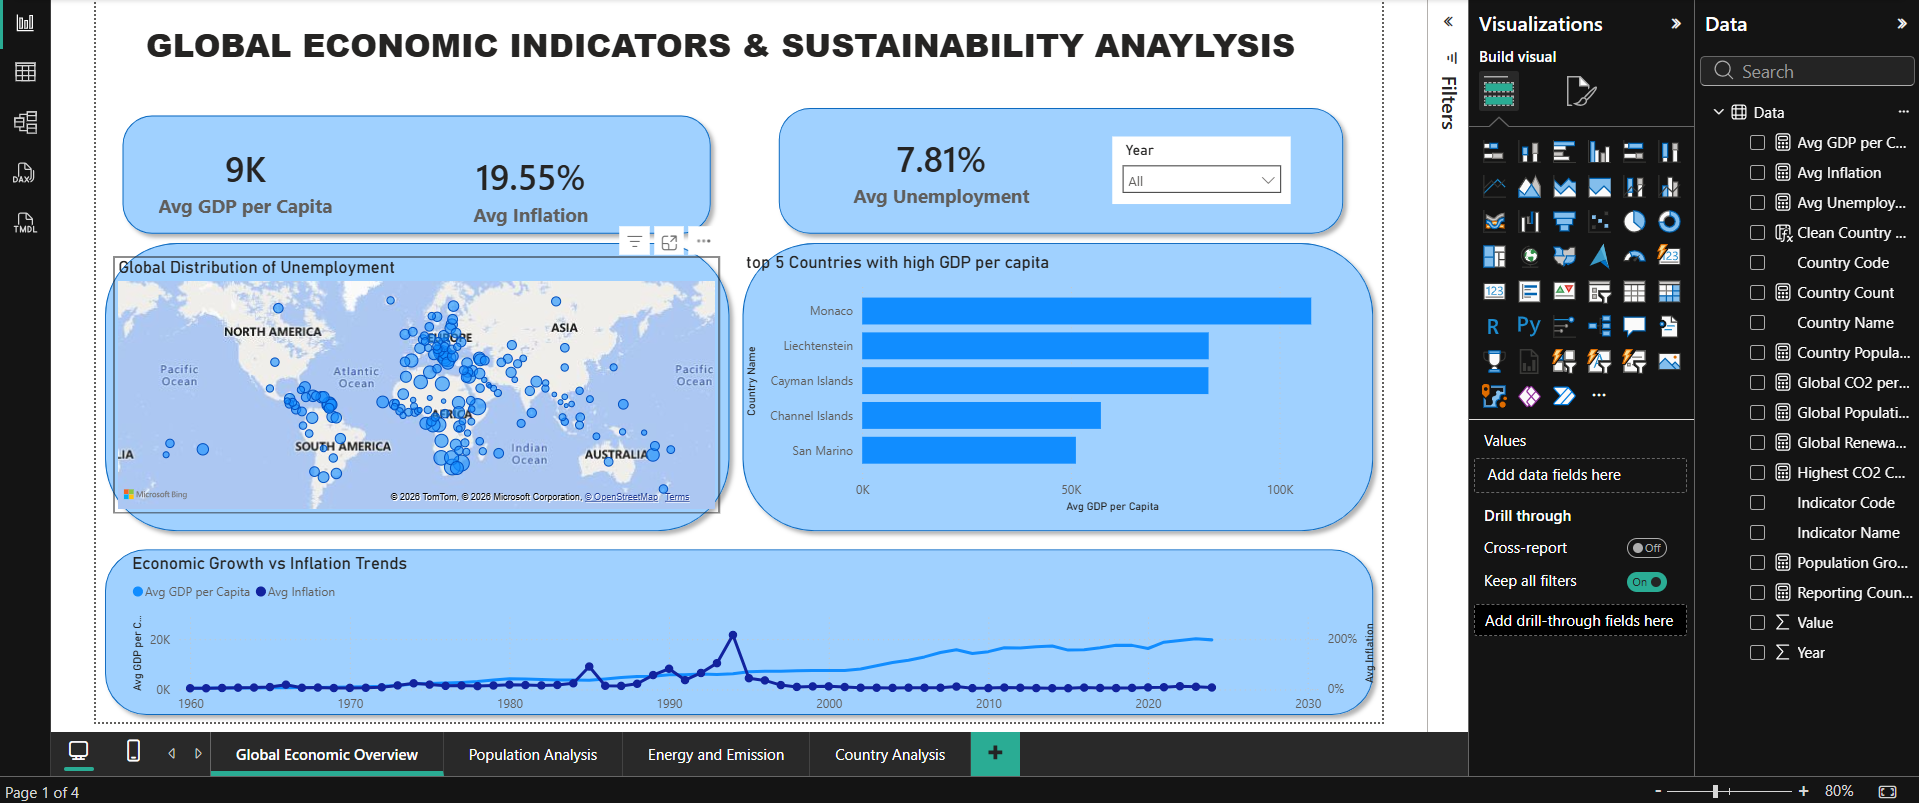

What the dashboard file says about the page in this screenshot:
{"tool":"powerbi","page":{"name":"Global Economic Overview","canvas":[1280,720],"ordinal":0},"visuals":[{"type":"group","id":"g1","title":"BackGround","box":[0,99.3,1280,621.5],"z":0},{"type":"shape","box":[17.4,106.8,603.3,135.6],"z":0,"group":"g1"},{"type":"shape","box":[670.5,99.3,579.7,143.1],"z":1000,"group":"g1"},{"type":"cardVisual","fields":{"Data":["Data.Avg GDP per Capita"]},"box":[31.1,114.4,235.1,133.1],"z":1000},{"type":"cardVisual","fields":{"Data":["Data.Avg Unemployment"]},"box":[722.7,104.5,237.6,133.1],"z":2000},{"type":"shape","box":[0,234,639.4,304.8],"z":2000,"group":"g1"},{"type":"cardVisual","fields":{"Data":["Data.Avg Inflation"]},"box":[293.6,123.2,278.6,133.1],"z":3000},{"type":"shape","box":[634.4,234,645.6,304.8],"z":3000,"group":"g1"},{"type":"slicer","fields":{"Values":["Data.Year"]},"box":[1011.3,136.8,177.9,67.2],"z":4000},{"type":"shape","box":[0,538,1280,182.9],"z":4000,"group":"g1"},{"type":"map","title":"Global Distribution of Unemployment","fields":{"Category":["Data.Country Name"],"Size":["Data.Avg Unemployment"]},"box":[17.4,256.3,603.3,256.3],"z":5000},{"type":"lineChart","title":"Economic Growth vs Inflation Trends","fields":{"Category":["Data.Year"],"Y":["Data.Avg GDP per Capita"],"Y2":["Data.Avg Inflation"]},"box":[31.1,551.1,1247.7,169.2],"z":6000},{"type":"clusteredBarChart","title":"top 5 Countries with high GDP per capita","fields":{"Category":["Data.Country Name"],"Y":["Data.Avg GDP per Capita"]},"box":[641.9,251.3,638.2,265],"z":7000},{"type":"textbox","box":[44.8,17.4,1234,82.1],"z":8000}]}

Visuals, with their boxes on the page's 1280x720 design canvas (x1, y1, x2, y2). These are canvas units, not pixel positions in the 1919x803 screenshot, which may show the page scaled, cropped or inside an application window:
"BackGround" group: locate(0, 99, 1280, 721)
shape: locate(17, 107, 621, 242)
shape: locate(670, 99, 1250, 242)
cardVisual - Data.Avg GDP per Capita: locate(31, 114, 266, 248)
cardVisual - Data.Avg Unemployment: locate(723, 104, 960, 238)
shape: locate(0, 234, 639, 539)
cardVisual - Data.Avg Inflation: locate(294, 123, 572, 256)
shape: locate(634, 234, 1280, 539)
slicer - Data.Year: locate(1011, 137, 1189, 204)
shape: locate(0, 538, 1280, 721)
"Global Distribution of Unemployment" map: locate(17, 256, 621, 513)
"Economic Growth vs Inflation Trends" lineChart: locate(31, 551, 1279, 720)
"top 5 Countries with high GDP per capita" clusteredBarChart: locate(642, 251, 1280, 516)
textbox: locate(45, 17, 1279, 100)
